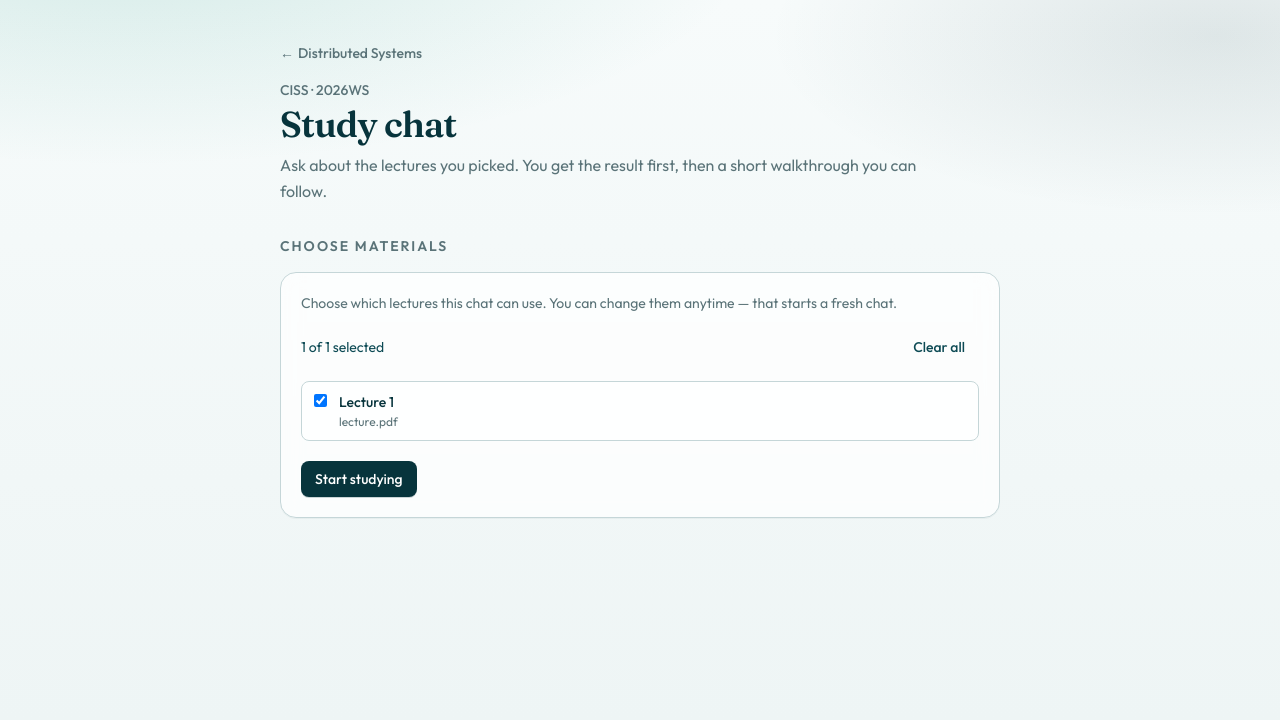
Test case: course study chat page › fills a starter into the composer without sending yet when clicked after focus
This screenshot has width=1280, height=720.
Later steps or results of the test are not shown.
Click the button "Start studying": (359, 479) [301,461,417,497]
(page scrolled)
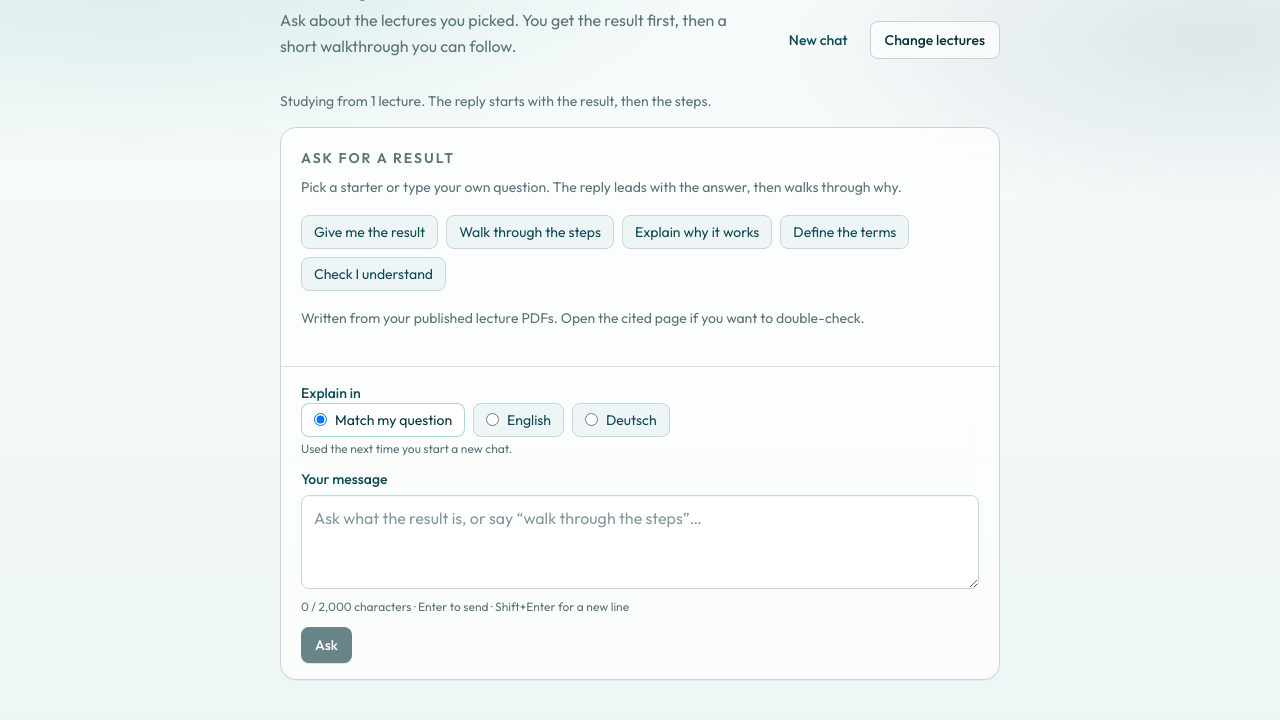
expect the heading "Ask for a result" is shown: met, box [301,149,455,167]
expect the button "Give me the result" is shown: met, box [301,215,438,249]
expect the button "Walk through the steps" is shown: met, box [446,215,614,249]
